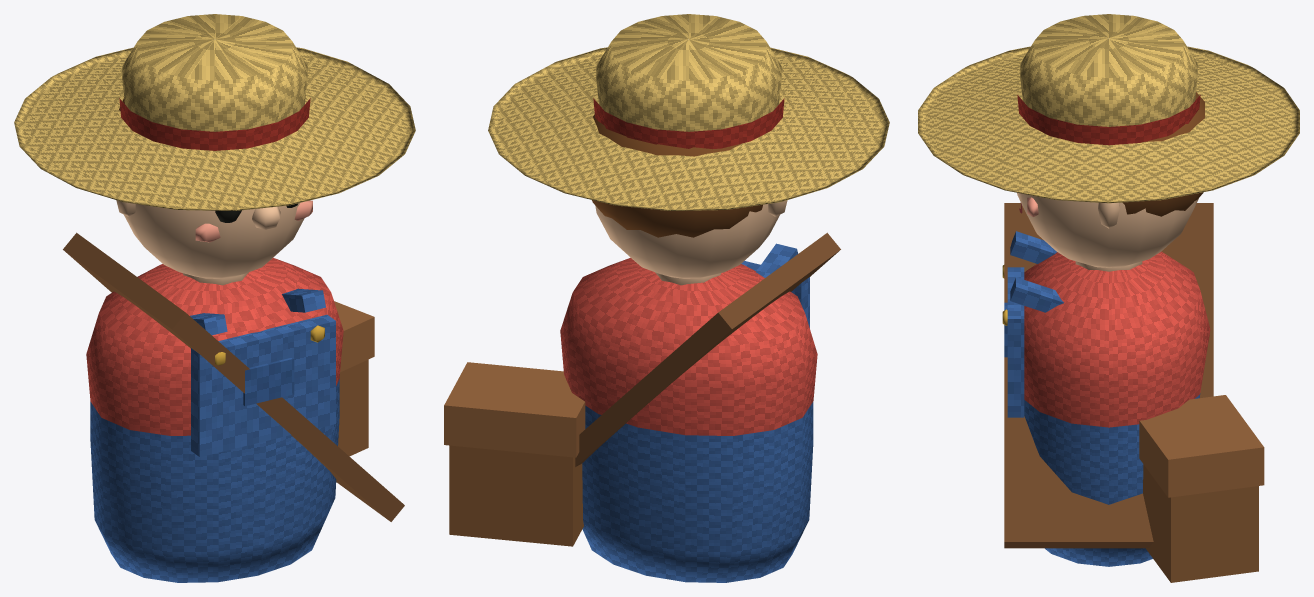
Rendered from farmer-body.glb.
3 views of the same model, side by side, from view 1: azimuth 30°, elevation 25°; view 2: azimuth 150°, elevation 25°; view 3: azimuth 270°, elevation 25° (orthographic). The views are drawn at different scales.
Visible parts, largest first — view 1: farmer-body; view 2: farmer-body; view 3: farmer-body.
Boxes of the visible parts, x1,y1,x2,y2 form: farmer-body: (14,14,415,582); farmer-body: (444,14,889,582); farmer-body: (918,14,1299,582).
Size of the model in its own units: 0.9635 by 1.28 by 0.9106.
5 materials, 2 textured.
